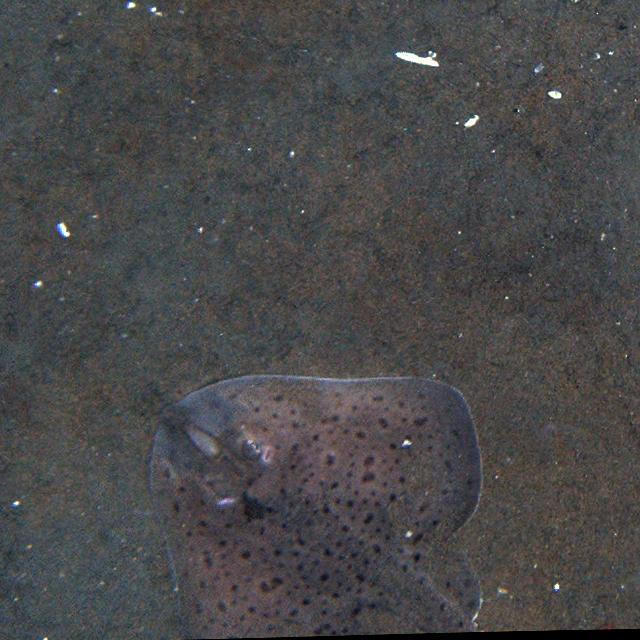skate: (134, 369, 494, 632)
